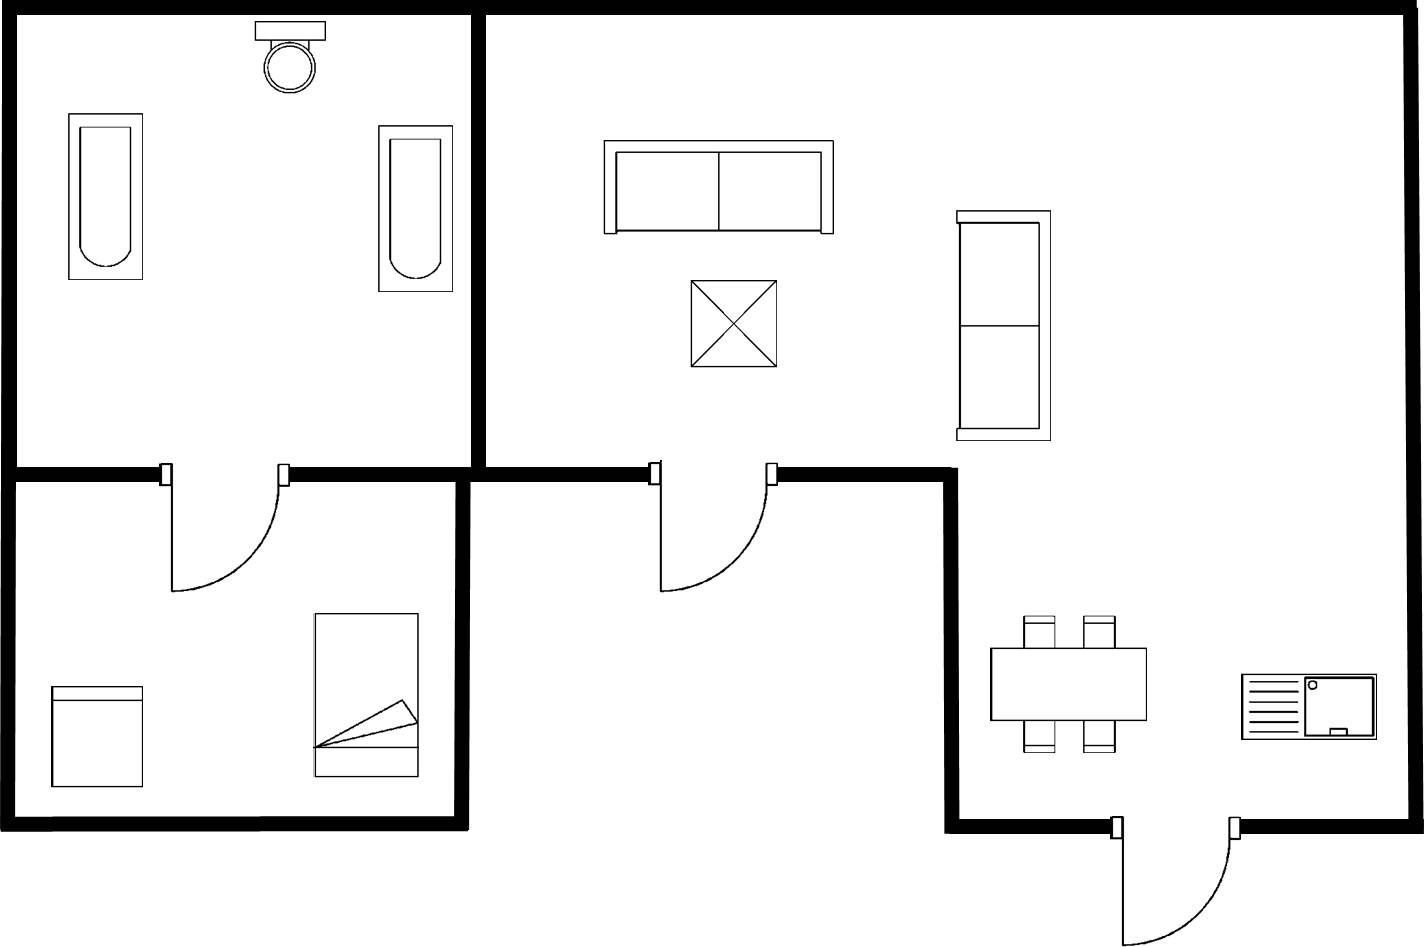bed: (307, 606, 426, 784)
coffee_table: (686, 275, 782, 374)
dining_table: (985, 611, 1156, 761)
large_sink: (249, 17, 331, 101)
large_sofa: (596, 135, 841, 243), (949, 206, 1056, 450)
sink: (1233, 666, 1385, 748)
small_sofa: (46, 681, 149, 794)
tub: (62, 106, 152, 289), (371, 121, 460, 298)
